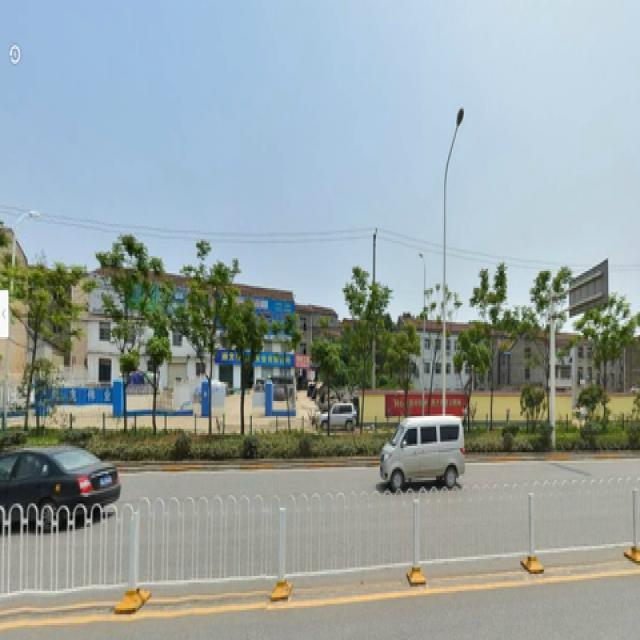koel: (23, 273, 61, 427), (484, 260, 512, 408), (106, 252, 142, 350), (189, 260, 211, 397), (355, 273, 368, 403)
